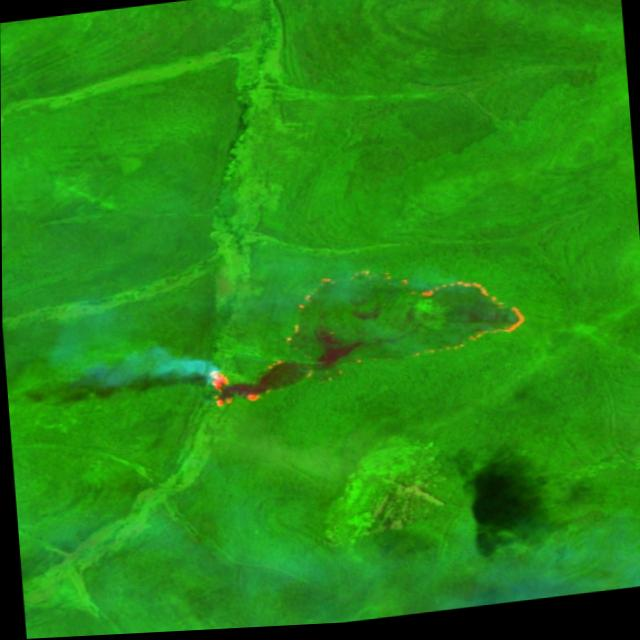fire: (406, 274, 533, 361), (201, 354, 286, 411)
